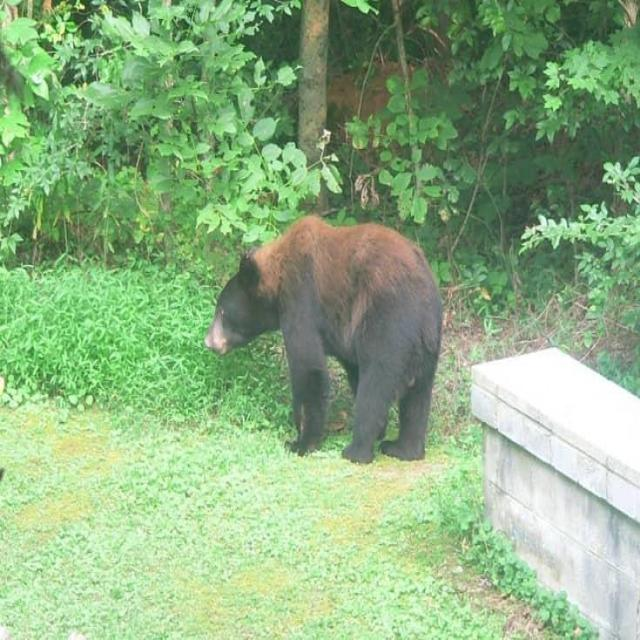Bear: (205, 217, 445, 467)
